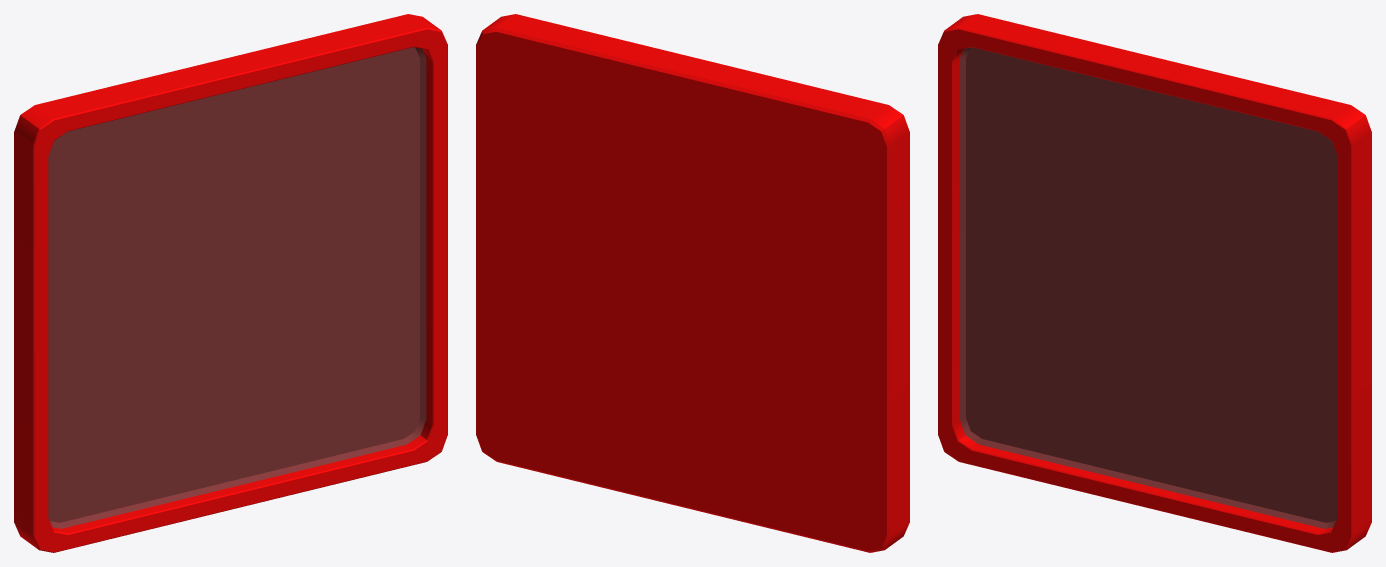
Rendered from button.glb.
3 renders of one model, left to right at view 1: azimuth 30°, elevation 25°; view 2: azimuth 150°, elevation 25°; view 3: azimuth 330°, elevation 25°, orthographic.
Visible parts, largest first — view 1: Button8; view 2: Button8; view 3: Button8.
Boxes of the visible parts, bbox=[...] form: Button8: bbox=[14, 14, 447, 552]; Button8: bbox=[476, 14, 909, 552]; Button8: bbox=[938, 14, 1371, 552].
Size of the model in its own units: 0.054 by 0.054 by 0.00473.
